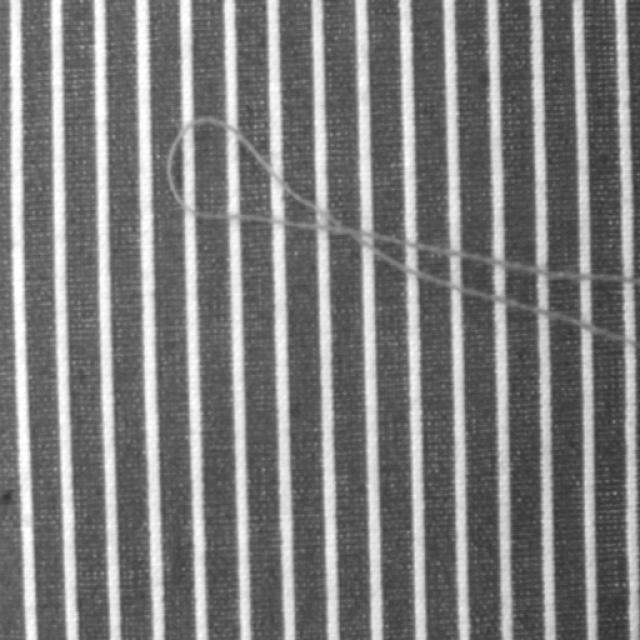Foreign-Body-Defect: (343, 237, 630, 346), (165, 110, 357, 237), (357, 227, 639, 291)
